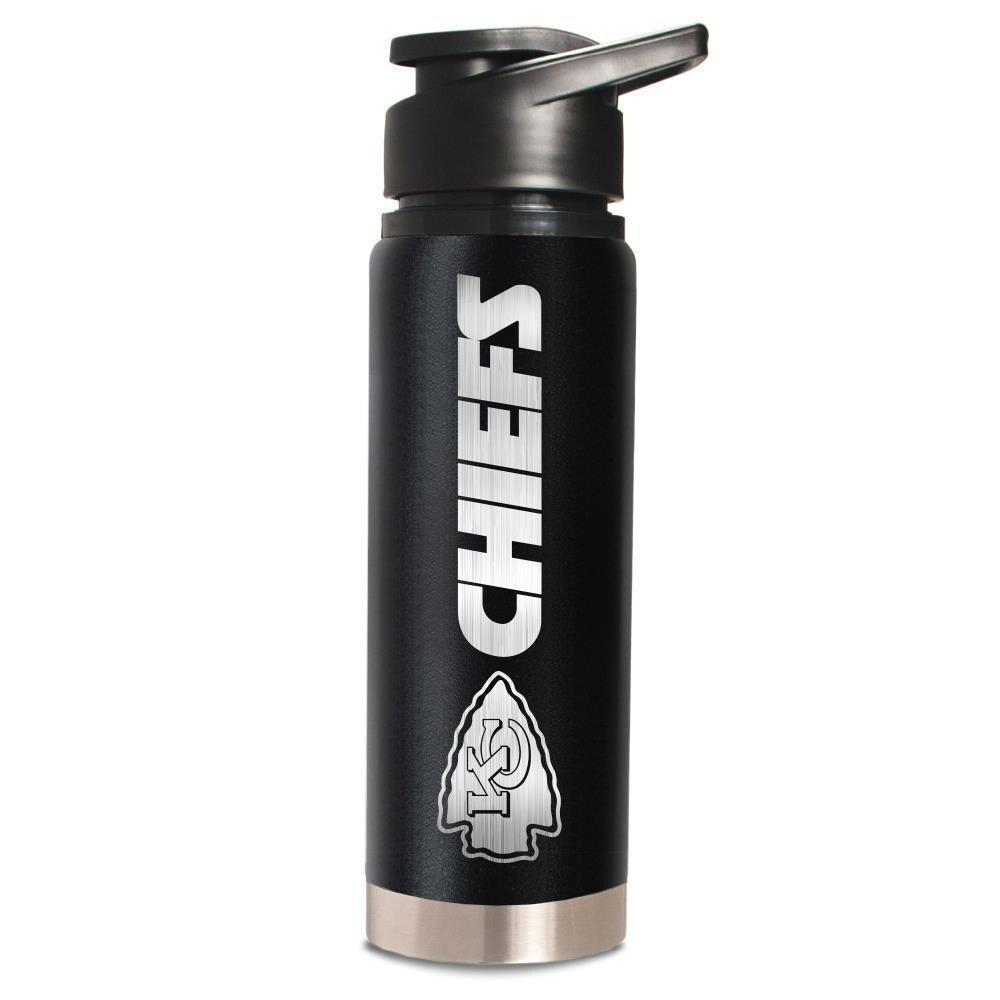gym bottle: (355, 10, 710, 980)
